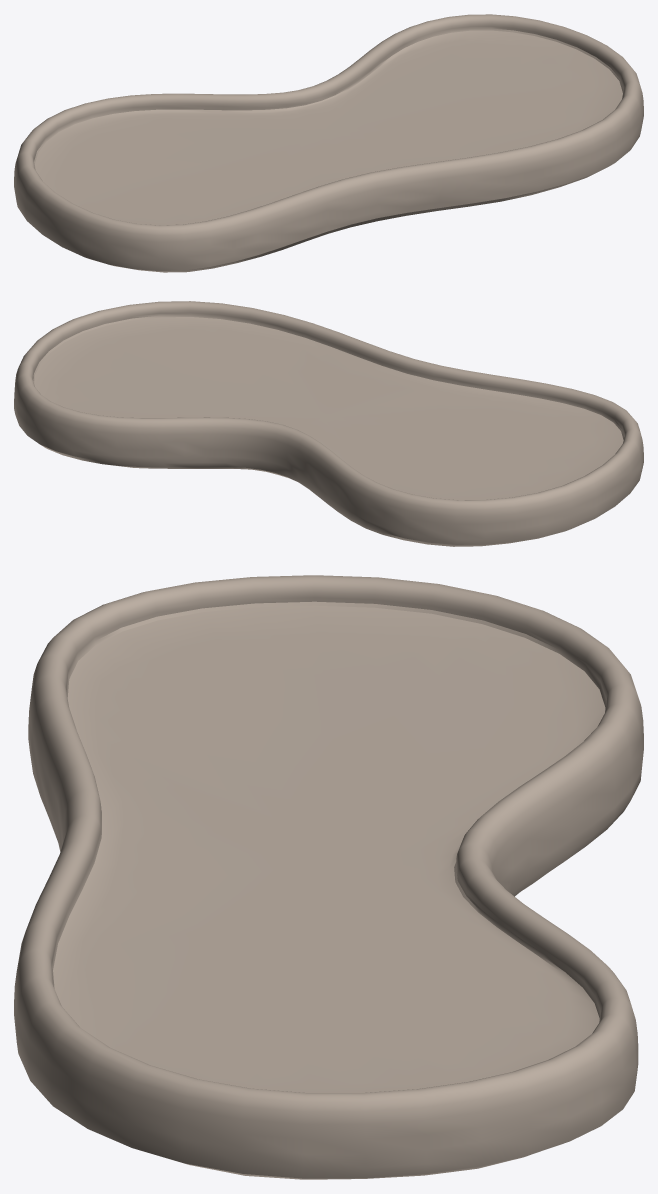
The model's file is Piscina02.fbx.
3 views of the same model, one above another, from view 1: azimuth 30°, elevation 25°; view 2: azimuth 150°, elevation 25°; view 3: azimuth 270°, elevation 25° (orthographic). The views are drawn at different scales.
Parts seen in each view (by area): view 1: Plane_008; view 2: Plane_008; view 3: Plane_008.
Part boxes in pixels (<box>): Plane_008: <box>14,14,643,272</box>; Plane_008: <box>14,301,643,546</box>; Plane_008: <box>14,575,643,1179</box>.
Size of the model in its own units: 488 by 42.13 by 242.
